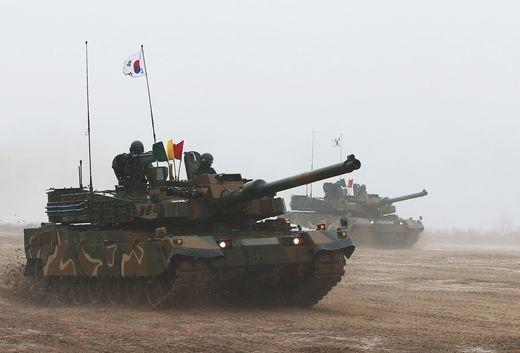tank: (23, 154, 359, 310), (280, 184, 428, 246)
